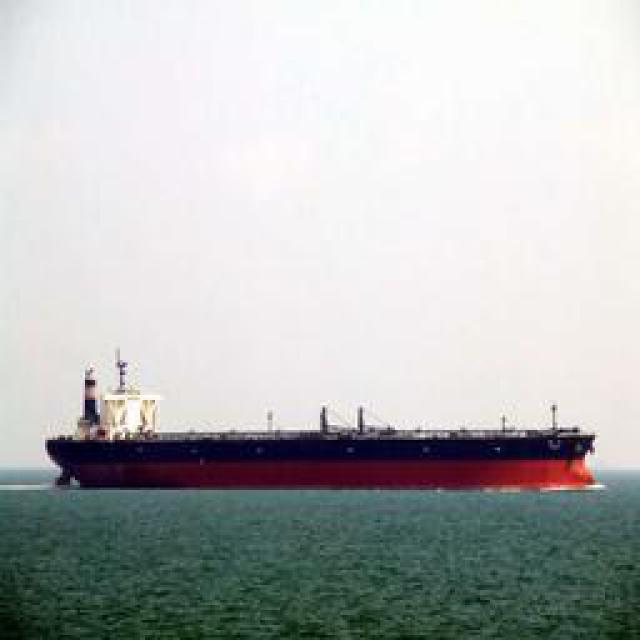Ship: (55, 374, 598, 494)
